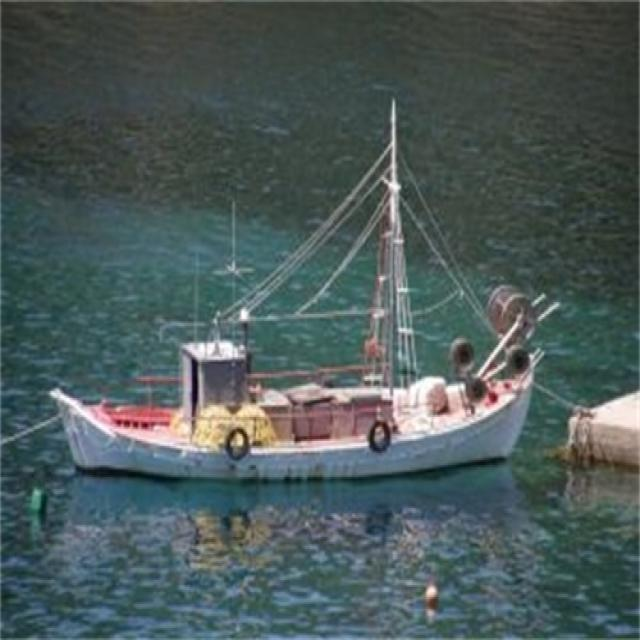Ship: (44, 115, 538, 480)
